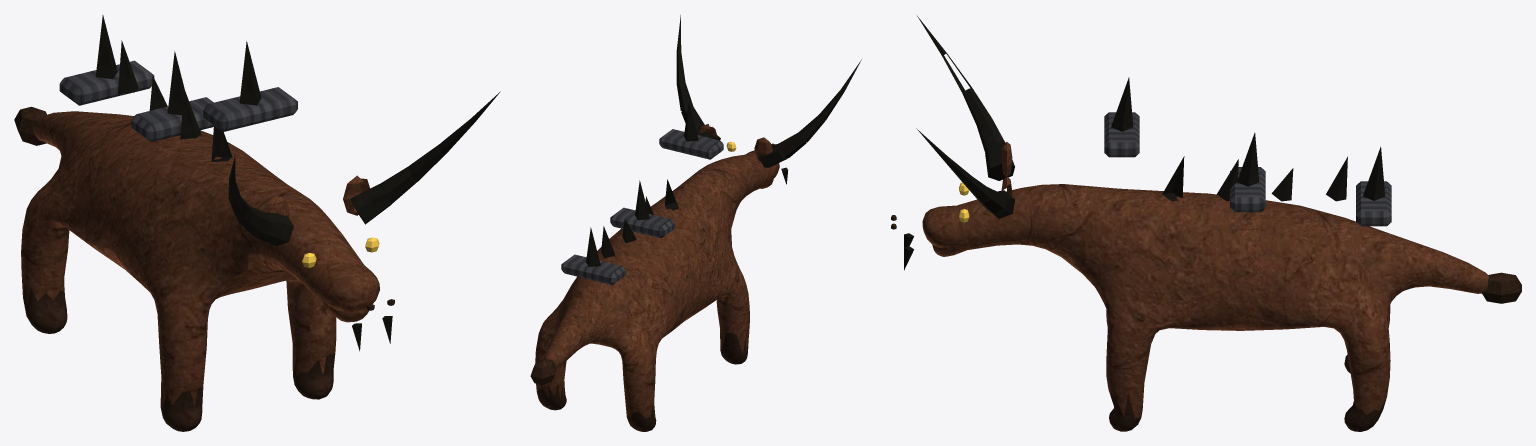
Rendered from boss_01.glb.
The picture shows the model from 3 angles, left to right: view 1: azimuth 30°, elevation 25°; view 2: azimuth 150°, elevation 25°; view 3: azimuth 270°, elevation 25°; orthographic projection. The views are drawn at different scales.
Parts seen in each view (by area): view 1: boss_01; view 2: boss_01; view 3: boss_01.
Part boxes in pixels (x1,y1,x2,y2): boss_01: (14,15,500,431); boss_01: (530,15,861,431); boss_01: (891,16,1521,431).
Size of the model in its own units: 2.05 by 2.77 by 4.79.
6 materials, 5 textured.
